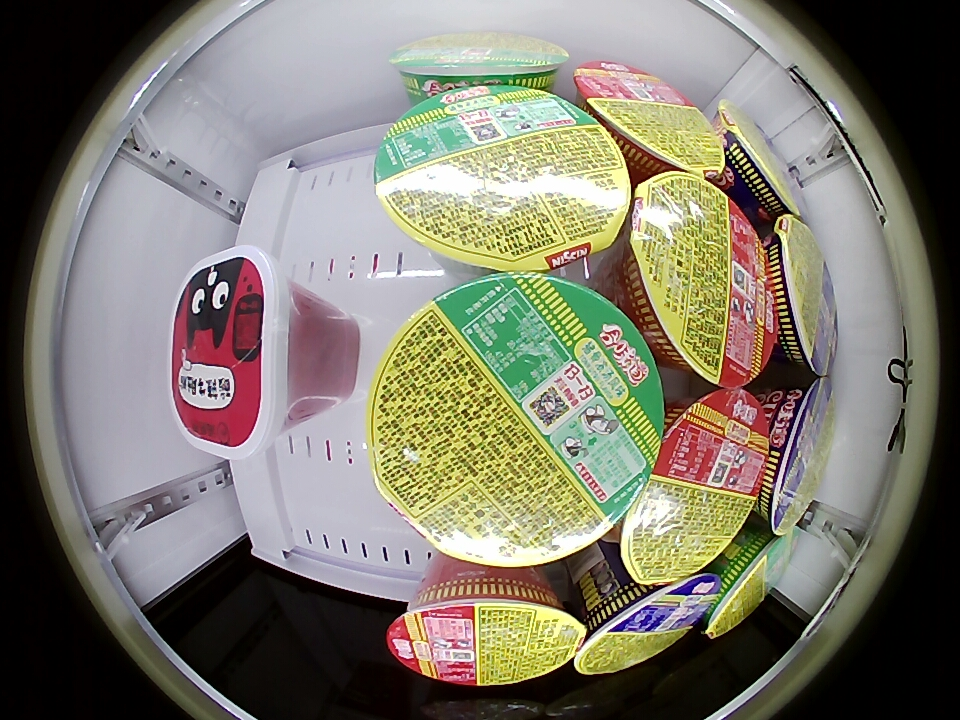heweidao: (576, 573, 718, 675), (764, 213, 840, 377), (757, 377, 835, 536), (714, 97, 809, 221)
heweidao2: (367, 269, 664, 570), (374, 83, 633, 276), (389, 31, 570, 95), (705, 527, 799, 639)
heweidao3: (624, 170, 779, 388), (622, 386, 773, 586), (387, 571, 586, 686), (575, 60, 724, 180)
niudufen: (170, 248, 313, 456)
